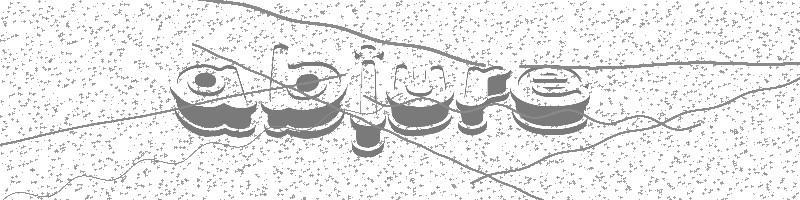a: (171, 64, 257, 138)
b: (262, 44, 348, 140)
e: (512, 67, 591, 135)
i: (352, 46, 386, 157)
r: (457, 65, 513, 136)
u: (388, 64, 454, 136)
